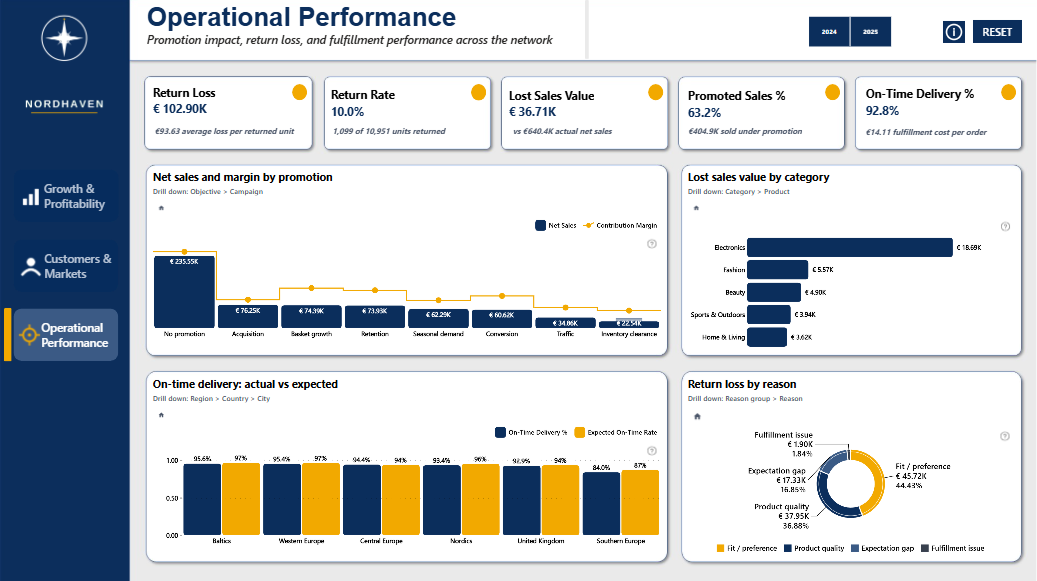

What the dashboard file says about the page in this screenshot:
{"tool":"powerbi","page":{"name":"Operational Performance","canvas":[1920,1080],"ordinal":2},"visuals":[{"type":"image","box":[0,0,237.4,237.4],"z":0},{"type":"group","id":"g1","title":"Group 1","box":[267.6,0,775,119.7],"z":1000},{"type":"textbox","box":[267.6,0,609,72.3],"z":1000,"group":"g1"},{"type":"textbox","box":[268.5,53.7,774.2,66.1],"z":2000,"group":"g1"},{"type":"actionButton","title":"Growth & Profitability","box":[24,313.8,196.9,99.1],"z":2000},{"type":"actionButton","box":[24.8,441.8,196.1,99.1],"z":3000},{"type":"actionButton","title":"Operational Performance","box":[24.8,569.8,196.1,99.1],"z":3000,"group":"g2"},{"type":"group","id":"g2","title":"Group 2","box":[8.3,569.8,212.6,99.1],"z":4000},{"type":"cardVisual","fields":{"Data":["1_Calculations.Return Loss"]},"box":[253.2,119.1,306.4,134],"z":6000},{"type":"shape","box":[8.3,569.8,14.5,99.1],"z":6000,"group":"g2"},{"type":"cardVisual","fields":{"Data":["1_Calculations.On-Time Delivery %"]},"box":[1574.4,122.7,306.7,132.2],"z":7000},{"type":"shape","box":[871.6,155.6,28.4,30.9],"z":8000},{"type":"cardVisual","fields":{"Data":["1_Calculations.Lost Sales Value"]},"box":[913.7,125.8,306.7,130],"z":9000},{"type":"shape","box":[1854.3,155.4,28.3,30.4],"z":10000},{"type":"cardVisual","fields":{"Data":["1_Calculations.Promoted Sales %"]},"box":[1244.1,125.2,306.7,131.1],"z":11000},{"type":"shape","box":[541.3,155.4,28.3,30.4],"z":12000},{"type":"cardVisual","fields":{"Data":["1_Calculations.Return Rate"]},"box":[583.3,124.5,306.7,131.1],"z":13000},{"type":"shape","box":[1527.2,155.4,28.3,30.4],"z":14000},{"type":"shape","box":[1200,155.1,28.6,30.6],"z":15000},{"type":"card","fields":{"Values":["1_Calculations.Return Loss Context"]},"box":[270.4,218.5,288.9,51.9],"z":16000},{"type":"card","fields":{"Values":["1_Calculations.Return Rate Context"]},"box":[608,219.5,224.1,50.6],"z":17000},{"type":"card","fields":{"Values":["1_Calculations.On-Time Delivery % Context"]},"box":[1589.2,220,250.8,50.8],"z":18000},{"type":"card","fields":{"Values":["1_Calculations.Promoted Sales % Context"]},"box":[1269.2,219.2,221.8,51.3],"z":19000},{"type":"card","fields":{"Values":["1_Calculations.Lost Sales Value Context"]},"box":[934.6,217.9,211.5,52.6],"z":20000},{"type":"ZoomChartsPieChartPaidE77E4ED357DC402ABA005987437CF500","title":"Return loss by reason","fields":{"Category":["DimReturnReason.ReturnReasonGroup","DimReturnReason.ReturnReason"],"Values":["1_Calculations.Return Loss"]},"box":[1268.6,695.7,614.3,337.1],"z":21000},{"type":"ZoomChartsFacetChartPaidE77E4ED357DC402ABA005987437CF500","title":"On-time delivery: actual vs expected","fields":{"Category":["DimGeography.Region","DimGeography.Country","DimGeography.City"],"Values1":["1_Calculations.On-Time Delivery %"],"Values2":["1_Calculations.Expected On-Time Rate"]},"box":[278.2,695.4,950.6,336.8],"z":22000},{"type":"ZoomChartsFacetChartPaidE77E4ED357DC402ABA005987437CF500","title":"Net sales and margin by promotion","fields":{"Category":["DimPromotion.PromotionObjective","DimPromotion.Campaign"],"Values1":["1_Calculations.Net Sales"],"Values2":["1_Calculations.Contribution Margin"]},"box":[278.2,313.8,950.6,336.8],"z":23000},{"type":"ZoomChartsDrillDownComboBarProE77E4ED357DC402ABA005987437CF8","title":"Lost sales value by category","fields":{"Category":["DimProduct.Category","DimProduct.ProductName"],"Values1":["1_Calculations.Lost Sales Value"]},"box":[1269.1,313.6,614.8,337],"z":24000},{"type":"actionButton","title":"Reset","box":[1801.9,37,90.7,42.6],"z":25000},{"type":"shape","box":[1083.3,0,7.4,109.3],"z":26000},{"type":"slicer","fields":{"Values":["LocalDateTable_ca70bc53-79dc-4852-b3f8-6f189456e860.Year"]},"box":[1472.2,24.1,201.9,68.5],"z":27000},{"type":"actionButton","title":"Info Button","box":[1746.3,38.9,40.7,40.7],"z":28000}]}

Visuals, with their boxes on the page's 1920x1080 design canvas (x1, y1, x2, y2). These are canvas units, not pixel positions in the 1037x581 screenshot, which may show the page scaled, cropped or inside an application window:
image: select_region(0, 0, 237, 237)
"Group 1" group: select_region(268, 0, 1043, 120)
textbox: select_region(268, 0, 877, 72)
textbox: select_region(268, 54, 1043, 120)
"Growth & Profitability" actionButton: select_region(24, 314, 221, 413)
actionButton: select_region(25, 442, 221, 541)
"Operational Performance" actionButton: select_region(25, 570, 221, 669)
"Group 2" group: select_region(8, 570, 221, 669)
cardVisual - 1_Calculations.Return Loss: select_region(253, 119, 560, 253)
shape: select_region(8, 570, 23, 669)
cardVisual - 1_Calculations.On-Time Delivery %: select_region(1574, 123, 1881, 255)
shape: select_region(872, 156, 900, 186)
cardVisual - 1_Calculations.Lost Sales Value: select_region(914, 126, 1220, 256)
shape: select_region(1854, 155, 1883, 186)
cardVisual - 1_Calculations.Promoted Sales %: select_region(1244, 125, 1551, 256)
shape: select_region(541, 155, 570, 186)
cardVisual - 1_Calculations.Return Rate: select_region(583, 124, 890, 256)
shape: select_region(1527, 155, 1556, 186)
shape: select_region(1200, 155, 1229, 186)
card - 1_Calculations.Return Loss Context: select_region(270, 218, 559, 270)
card - 1_Calculations.Return Rate Context: select_region(608, 220, 832, 270)
card - 1_Calculations.On-Time Delivery % Context: select_region(1589, 220, 1840, 271)
card - 1_Calculations.Promoted Sales % Context: select_region(1269, 219, 1491, 270)
card - 1_Calculations.Lost Sales Value Context: select_region(935, 218, 1146, 270)
"Return loss by reason" ZoomChartsPieChartPaidE77E4ED357DC402ABA005987437CF500: select_region(1269, 696, 1883, 1033)
"On-time delivery: actual vs expected" ZoomChartsFacetChartPaidE77E4ED357DC402ABA005987437CF500: select_region(278, 695, 1229, 1032)
"Net sales and margin by promotion" ZoomChartsFacetChartPaidE77E4ED357DC402ABA005987437CF500: select_region(278, 314, 1229, 651)
"Lost sales value by category" ZoomChartsDrillDownComboBarProE77E4ED357DC402ABA005987437CF8: select_region(1269, 314, 1884, 651)
"Reset" actionButton: select_region(1802, 37, 1893, 80)
shape: select_region(1083, 0, 1091, 109)
slicer - LocalDateTable_ca70bc53-79dc-4852-b3f8-6f189456e860.Year: select_region(1472, 24, 1674, 93)
"Info Button" actionButton: select_region(1746, 39, 1787, 80)
